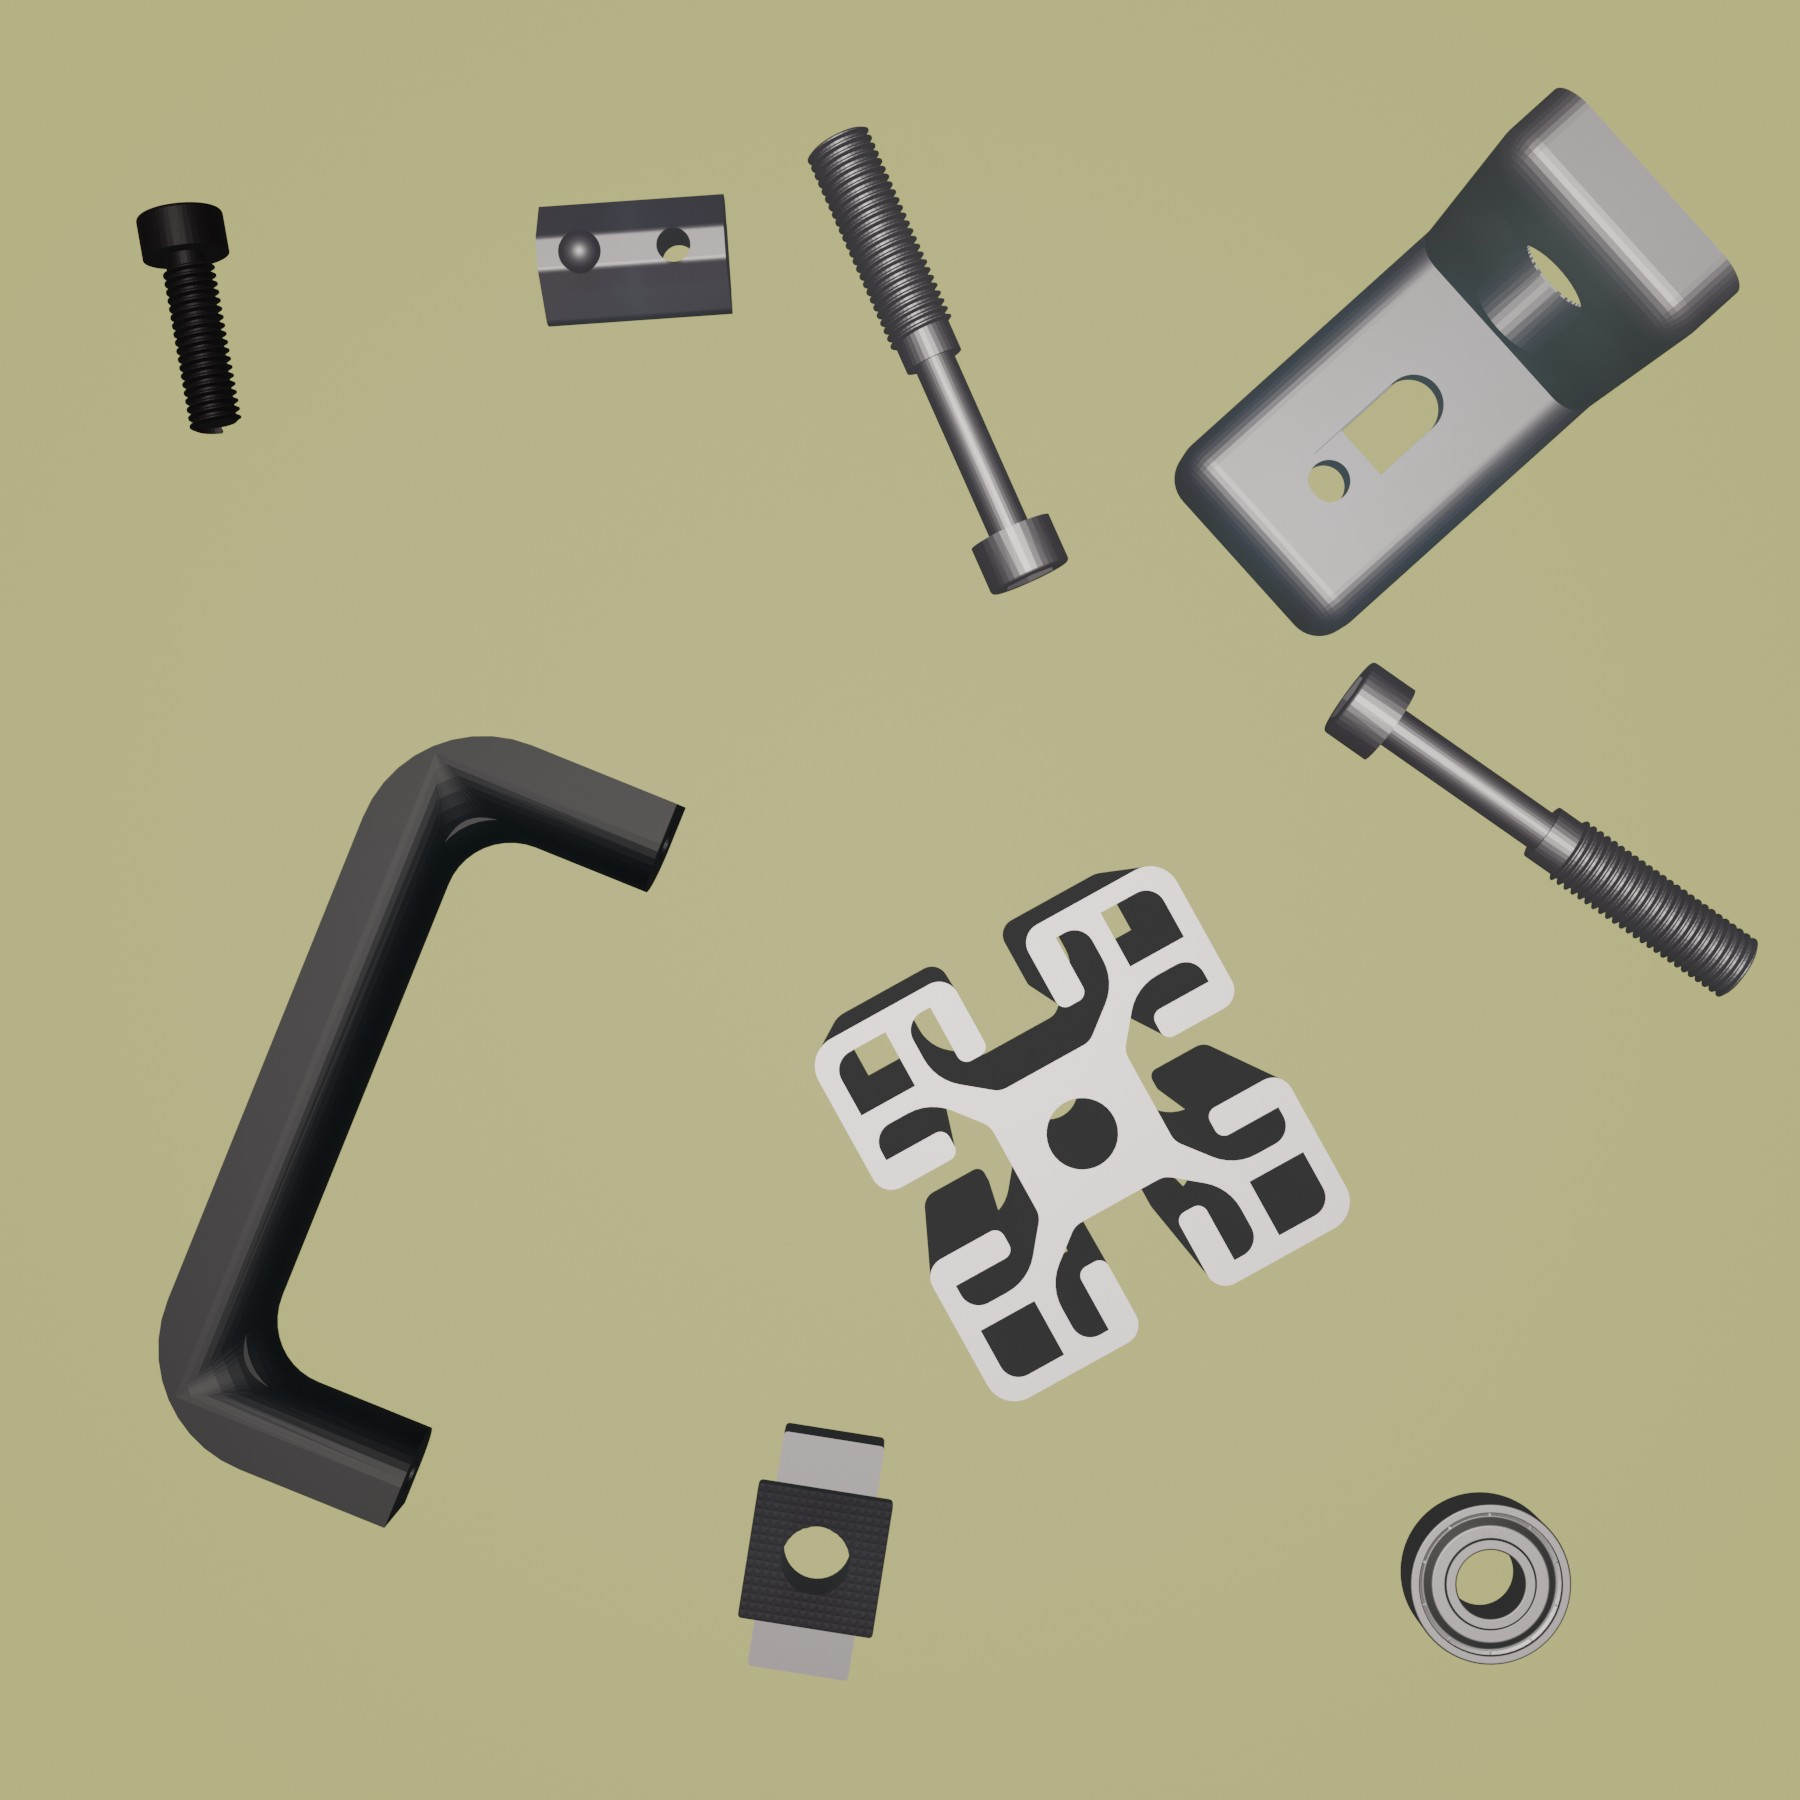Aluminium Extension: (811, 862, 1355, 1408)
Ball Bearing: (1398, 1488, 1574, 1668)
Multiwinkel: (1170, 86, 1742, 640)
Pull Handle: (157, 730, 691, 1528)
Shoulder Socket Head Cap Screw: (1320, 659, 1760, 999), (804, 122, 1070, 597)
Socket Head Cap Screw: (132, 199, 246, 438)
T Nut Square: (734, 1414, 897, 1685)
T Spring Nut: (532, 191, 735, 330)
